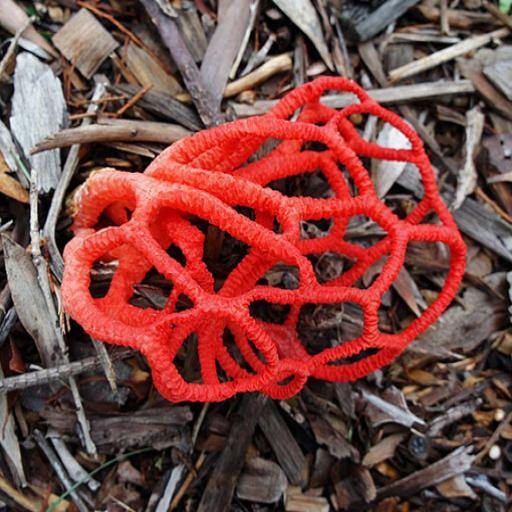Red Cage Fungus: (21, 51, 496, 472)
